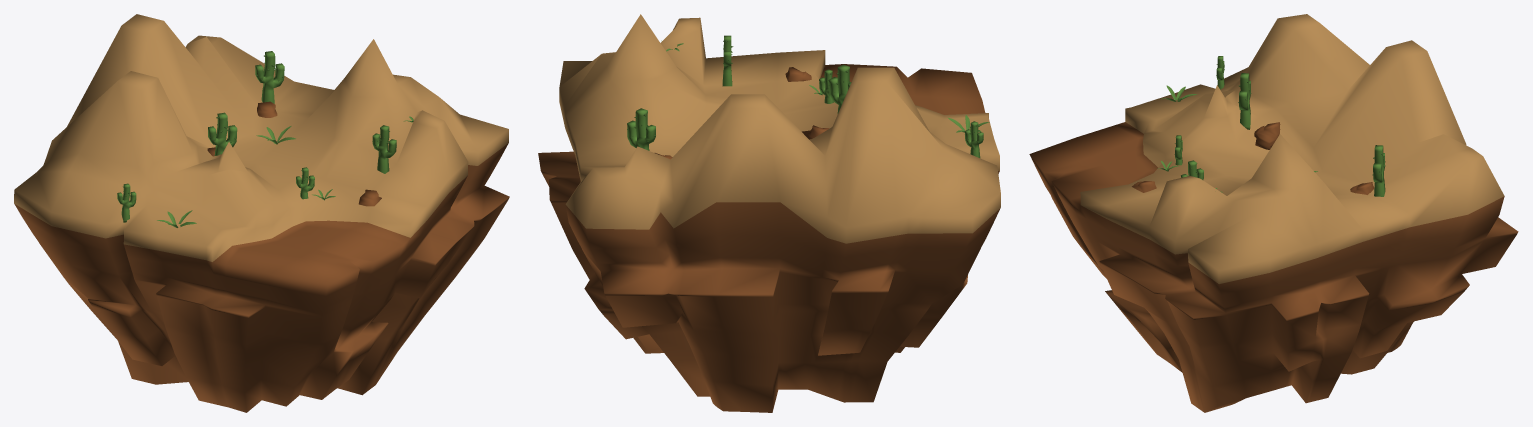
Rendered from Desert.glb.
3 renders of one model, left to right at view 1: azimuth 30°, elevation 25°; view 2: azimuth 150°, elevation 25°; view 3: azimuth 270°, elevation 25°, orthographic. The views are drawn at different scales.
Visible parts, largest first — view 1: Cube.016, Cube.020, Cube.018, Cube.017, Cube.019; view 2: Cube.016, Cube.020, Cube.018, Cube.017, Cube.019; view 3: Cube.016, Cube.018, Cube.020, Cube.174.
Part boxes in pixels (bbox=[...]): Cube.016: bbox=[14, 14, 509, 412]; Cube.020: bbox=[255, 51, 284, 103]; Cube.018: bbox=[208, 112, 237, 155]; Cube.017: bbox=[372, 125, 396, 173]; Cube.019: bbox=[117, 183, 136, 222]; Cube.016: bbox=[538, 14, 1000, 412]; Cube.020: bbox=[627, 108, 655, 150]; Cube.018: bbox=[829, 64, 851, 113]; Cube.017: bbox=[722, 35, 732, 86]; Cube.019: bbox=[965, 121, 983, 157]; Cube.016: bbox=[1029, 14, 1518, 412]; Cube.018: bbox=[1239, 73, 1250, 129]; Cube.020: bbox=[1373, 145, 1385, 196]; Cube.174: bbox=[1254, 122, 1280, 149].
Bounding box in the file's own units: 6.55 × 4.59 × 6.61.
